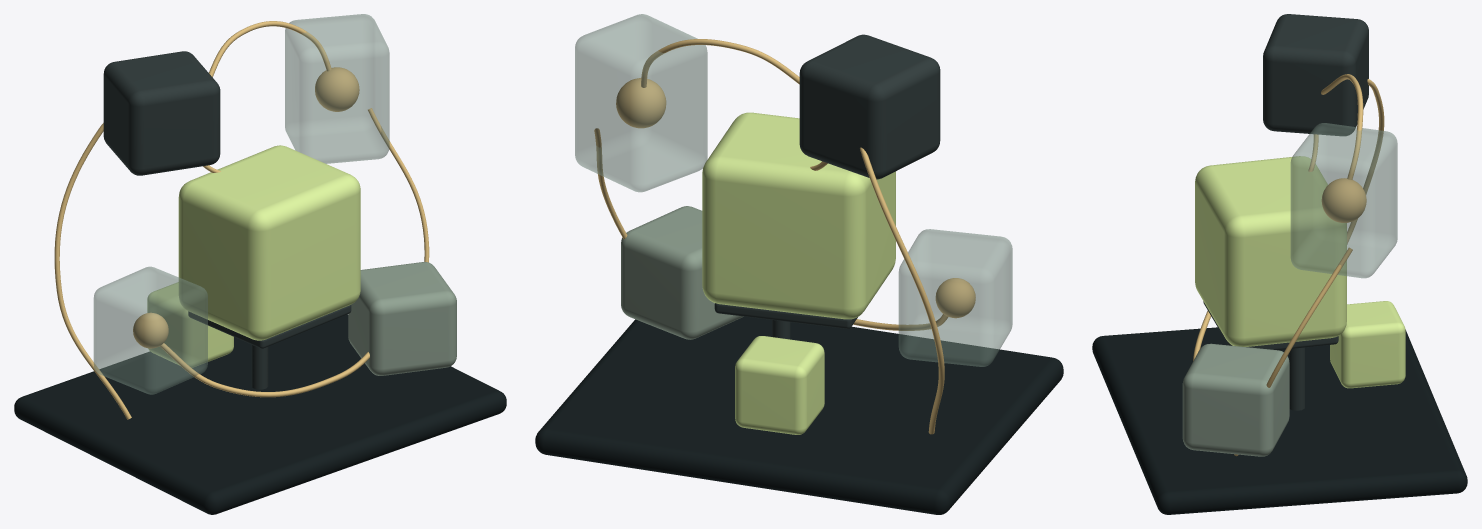
Rendered from donna-studio.glb.
3 renders of one model, left to right at view 1: azimuth 30°, elevation 25°; view 2: azimuth 150°, elevation 25°; view 3: azimuth 270°, elevation 25°, orthographic. The views are drawn at different scales.
Parts seen in each view (by area): view 1: Low rounded plinth, Central olive module, Tall glass module, Upper charcoal module, Left glass module, Right sage module, Small olive module, Back sweeping rail, Brass heart within high glass, Low bridge, Central dark footing, Brass heart within low glass (+3 smaller); view 2: Low rounded plinth, Central olive module, Tall glass module, Upper charcoal module, Left glass module, Right sage module, Small olive module, Back sweeping rail, Brass heart within high glass, Central dark footing, Brass heart within low glass, High bridge (+2 smaller); view 3: Low rounded plinth, Central olive module, Tall glass module, Upper charcoal module, Right sage module, Small olive module, Brass heart within high glass, Core support, Right rail, High bridge, Back sweeping rail, Central dark footing.
Part boxes in pixels (bbox=[...]): Low rounded plinth: bbox=[14, 314, 506, 514]; Central olive module: bbox=[178, 145, 360, 340]; Tall glass module: bbox=[285, 14, 389, 163]; Upper charcoal module: bbox=[103, 51, 220, 175]; Left glass module: bbox=[93, 266, 207, 394]; Right sage module: bbox=[348, 262, 456, 375]; Small olive module: bbox=[147, 282, 233, 367]; Back sweeping rail: bbox=[54, 123, 131, 419]; Brass heart within high glass: bbox=[315, 67, 359, 111]; Low bridge: bbox=[160, 343, 369, 397]; Central dark footing: bbox=[188, 305, 351, 348]; Brass heart within low glass: bbox=[133, 312, 168, 348]; Low rounded plinth: bbox=[535, 316, 1063, 514]; Central olive module: bbox=[702, 112, 895, 319]; Tall glass module: bbox=[575, 14, 707, 192]; Upper charcoal module: bbox=[799, 34, 940, 179]; Left glass module: bbox=[898, 229, 1012, 366]; Right sage module: bbox=[621, 206, 743, 339]; Small olive module: bbox=[735, 336, 824, 434]; Back sweeping rail: bbox=[860, 147, 944, 434]; Brass heart within high glass: bbox=[616, 78, 666, 128]; Central dark footing: bbox=[714, 303, 857, 328]; Brass heart within low glass: bbox=[935, 278, 975, 318]; High bridge: bbox=[641, 39, 799, 87]; Low rounded plinth: bbox=[1092, 327, 1467, 514]; Central olive module: bbox=[1195, 156, 1346, 346]; Tall glass module: bbox=[1290, 123, 1397, 278]; Upper charcoal module: bbox=[1263, 14, 1368, 135]; Right sage module: bbox=[1182, 343, 1289, 456]; Small olive module: bbox=[1330, 301, 1405, 388]; Brass heart within high glass: bbox=[1321, 178, 1366, 222]; Core support: bbox=[1289, 347, 1304, 410]; Right rail: bbox=[1234, 247, 1352, 456]; High bridge: bbox=[1321, 74, 1363, 179]; Back sweeping rail: bbox=[1347, 79, 1384, 244]; Central dark footing: bbox=[1203, 301, 1338, 350].
Size of the model in its own units: 3.9 by 3.51 by 3.33.
